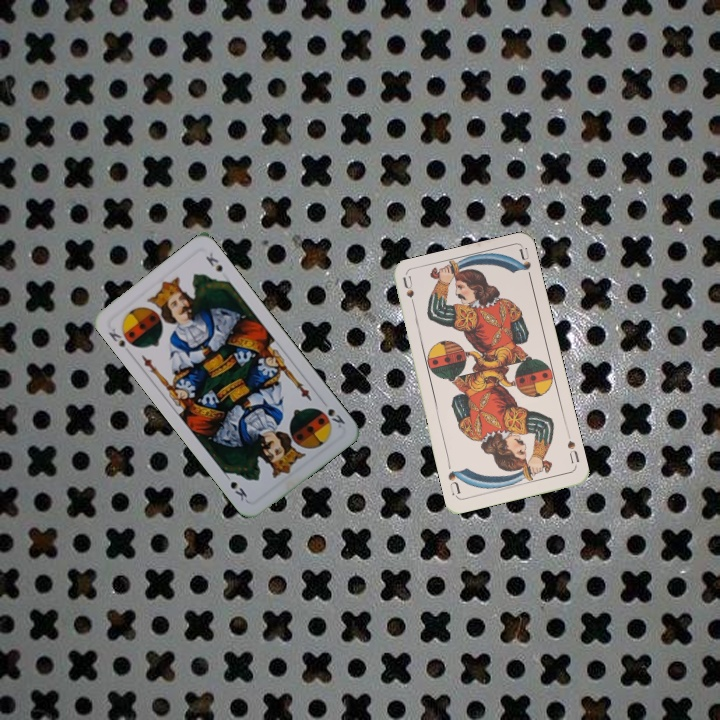SK: (317, 396, 348, 431), (104, 324, 128, 350)
SU: (399, 273, 418, 314), (563, 429, 582, 469)
